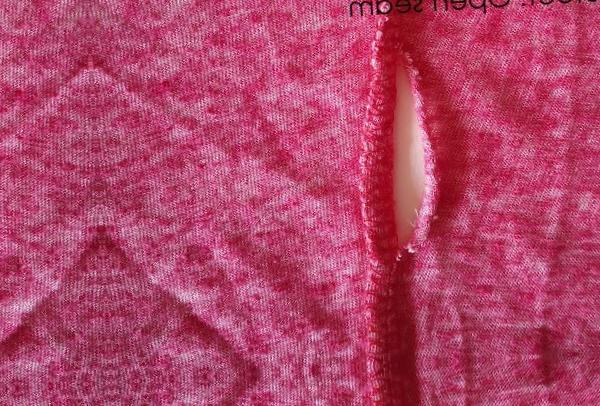hole: (381, 43, 449, 266)
